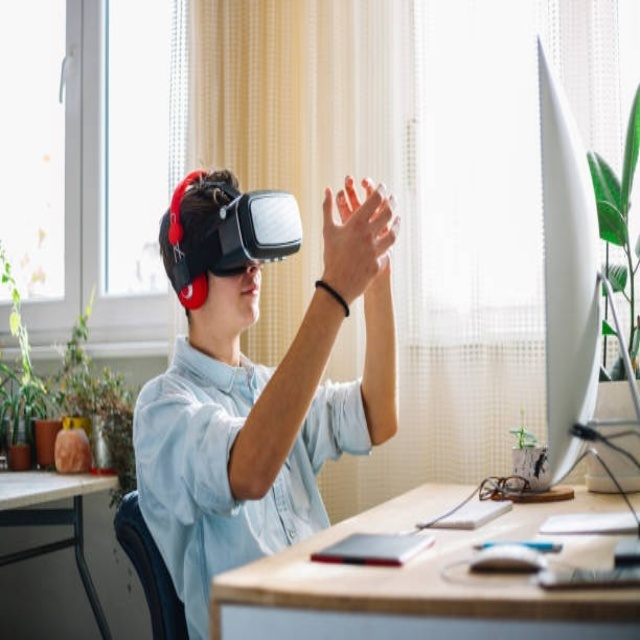Sin_guantes: (319, 175, 400, 299)
Sin_mascara: (228, 267, 264, 323)
